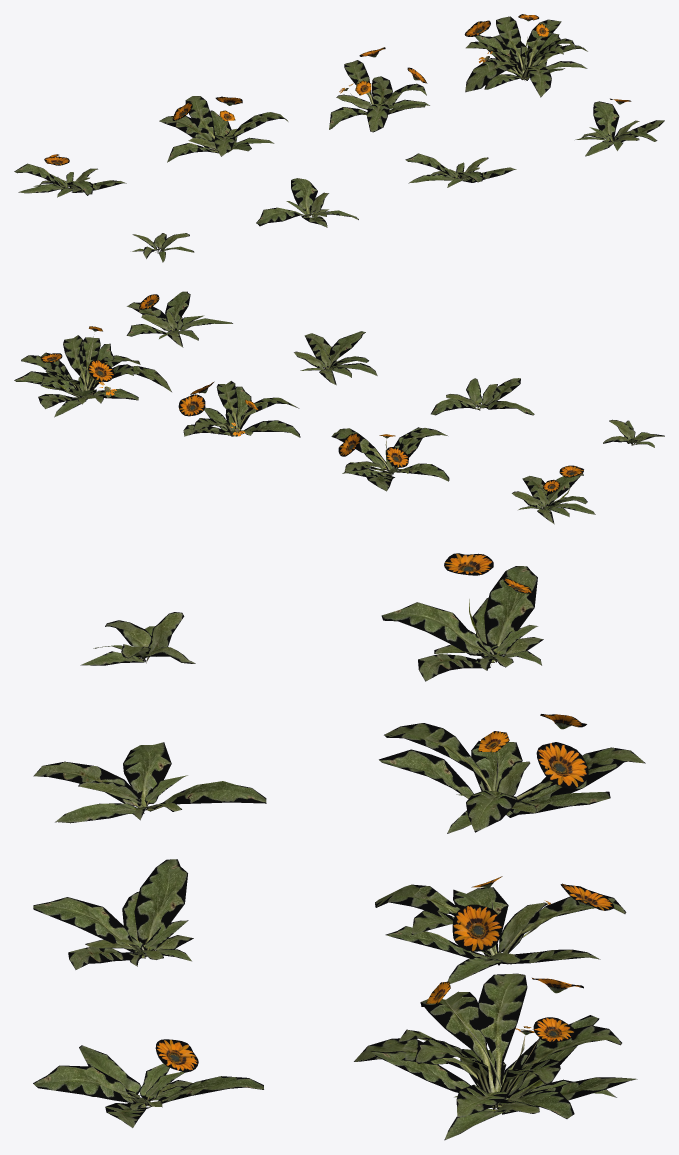
Rendered from flower_gazania.glb.
The picture shows the model from 3 angles, top to bottom: view 1: azimuth 30°, elevation 25°; view 2: azimuth 150°, elevation 25°; view 3: azimuth 270°, elevation 25°; orthographic projection. The views are drawn at different scales.
Parts seen in each view (by area): view 1: flower_gazania_h_LOD0, flower_gazania_f_LOD0, flower_gazania_g_LOD0, flower_gazania_d_LOD0, flower_gazania_b_LOD0, flower_gazania_e_LOD0, flower_gazania_c_LOD0, flower_gazania_a_LOD0; view 2: flower_gazania_h_LOD0, flower_gazania_g_LOD0, flower_gazania_f_LOD0, flower_gazania_d_LOD0, flower_gazania_e_LOD0, flower_gazania_c_LOD0, flower_gazania_b_LOD0, flower_gazania_a_LOD0; view 3: flower_gazania_h_LOD0, flower_gazania_f_LOD0, flower_gazania_g_LOD0, flower_gazania_e_LOD0, flower_gazania_c_LOD0, flower_gazania_d_LOD0, flower_gazania_b_LOD0, flower_gazania_a_LOD0.
Boxes of the visible parts, x1,y1,x2,y2 form: flower_gazania_h_LOD0: [464, 14, 587, 97]; flower_gazania_f_LOD0: [159, 96, 288, 162]; flower_gazania_g_LOD0: [329, 47, 429, 132]; flower_gazania_d_LOD0: [575, 98, 664, 156]; flower_gazania_b_LOD0: [256, 178, 358, 227]; flower_gazania_e_LOD0: [14, 154, 126, 197]; flower_gazania_c_LOD0: [405, 153, 516, 187]; flower_gazania_a_LOD0: [132, 233, 194, 262]; flower_gazania_h_LOD0: [14, 326, 171, 417]; flower_gazania_g_LOD0: [178, 381, 300, 437]; flower_gazania_f_LOD0: [331, 427, 449, 491]; flower_gazania_d_LOD0: [126, 291, 232, 347]; flower_gazania_e_LOD0: [512, 465, 595, 524]; flower_gazania_c_LOD0: [294, 331, 377, 385]; flower_gazania_b_LOD0: [431, 378, 534, 415]; flower_gazania_a_LOD0: [603, 419, 664, 447]; flower_gazania_h_LOD0: [354, 973, 637, 1140]; flower_gazania_f_LOD0: [379, 714, 645, 833]; flower_gazania_g_LOD0: [375, 876, 626, 983]; flower_gazania_e_LOD0: [381, 553, 543, 681]; flower_gazania_c_LOD0: [33, 859, 193, 969]; flower_gazania_d_LOD0: [33, 1039, 263, 1127]; flower_gazania_b_LOD0: [33, 742, 266, 823]; flower_gazania_a_LOD0: [80, 612, 195, 665].
Size of the model in its own units: 1.48 by 0.164 by 0.7015.
Materials: 1 (1 with a texture image).
